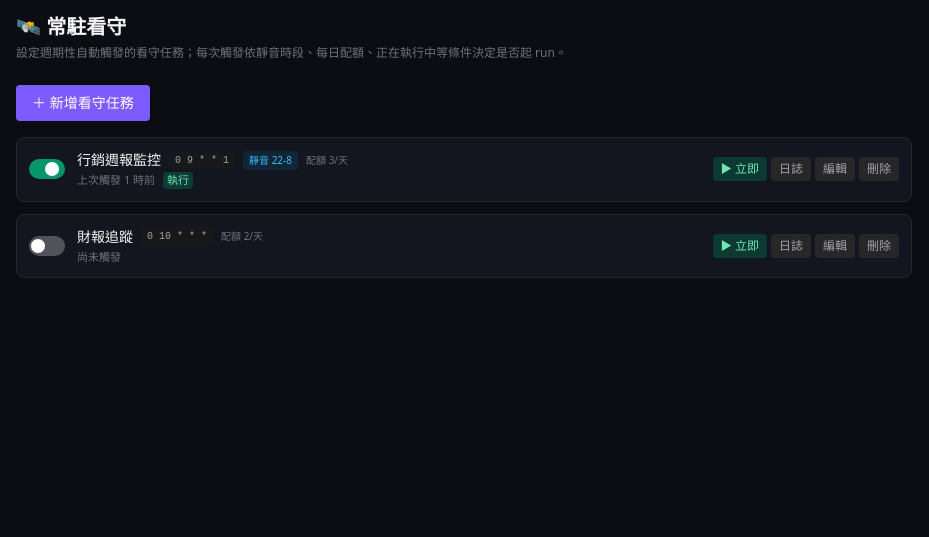
Test case: WatchtowerPanel — 新增任務 › 點「新增」顯示表單
The image size is (929, 537).
Expected: the text "行銷週報監控" is shown, x1=77 y1=150 x2=161 y2=170
Click the button "＋ 新增看守任務": (83, 103) x1=16 y1=85 x2=150 y2=121
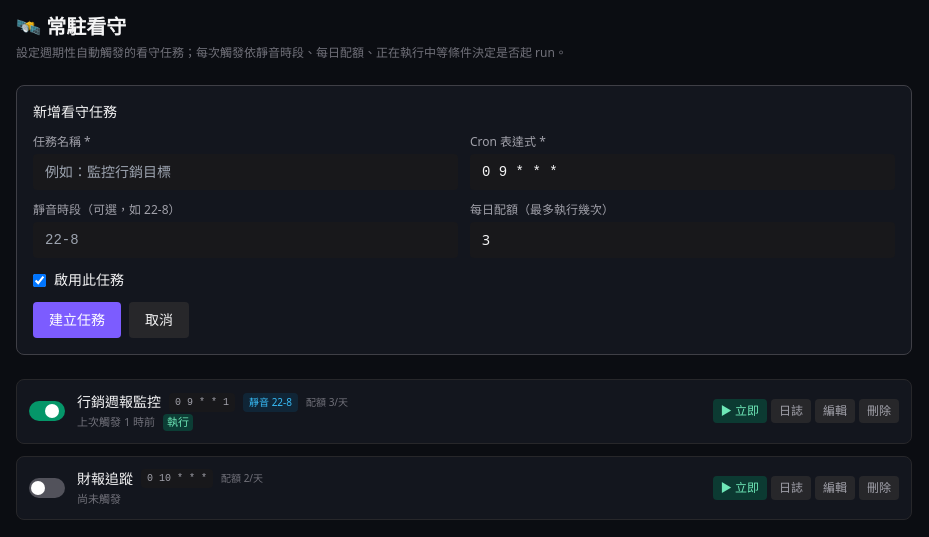
Now the field with placeholder "例如：監控行銷目標" is shown, box x1=33 y1=154 x2=458 y2=190
